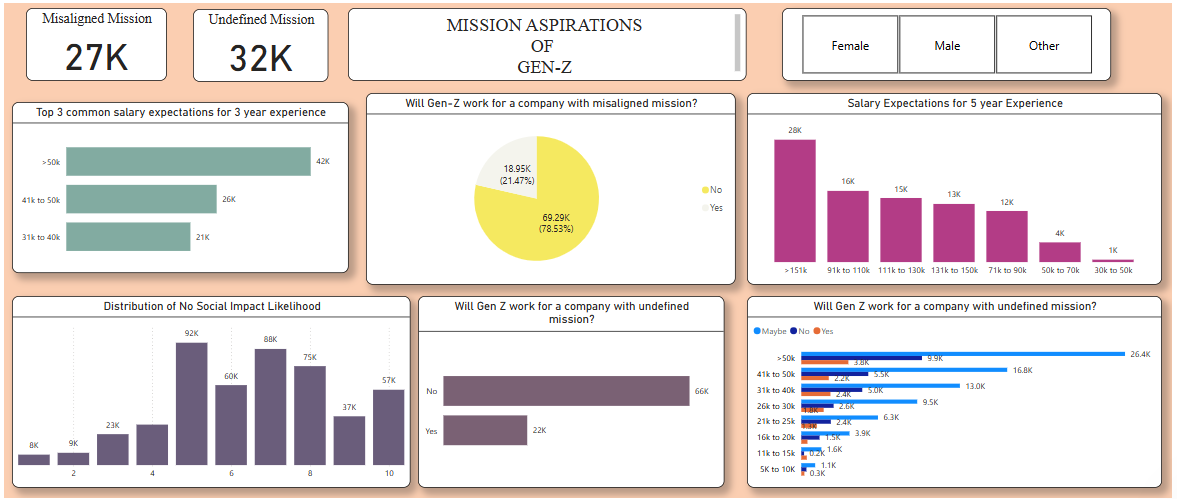

The dashboard page shown, as its layout file describes it:
{"tool":"powerbi","page":{"name":"Page 1","canvas":[1700,720],"ordinal":0},"visuals":[{"type":"shape","box":[11.1,0,1673.1,102.7],"z":0},{"type":"textbox","box":[415.5,19,632,61.6],"z":1000},{"type":"slicer","fields":{"Values":["Form responses 1.Gender"]},"box":[1096.5,20.5,451.9,61.6],"z":2000},{"type":"cardVisual","fields":{"Data":["Sum(Form responses 1.Misaligned Mission)","Sum(Form responses 1.Undefined Mission)"]},"box":[11.3,116.2,467.7,121.9],"z":3000},{"type":"barChart","title":"Top 3 common salary expectations for 3 year experience","fields":{"Category":["Form responses 1.Min Expected Monthly Salary (First 3 Years)"],"Y":["CountNonNull(Form responses 1.Min Expected Monthly Salary (First 3 Years))"]},"box":[11.3,242.4,467.7,248],"z":4000},{"type":"donutChart","title":"Will Gen-Z work for a company with misaligned mission?","fields":{"Y":["CountNonNull(Form responses 1.Likelihood of Working for a Company with a Misaligned Mission and Actions)"],"Category":["Form responses 1.Likelihood of Working for a Company with a Misaligned Mission and Actions"]},"box":[484.7,116.2,544.3,218.3],"z":5000},{"type":"barChart","title":"Salary Expectations for 5 year Experience","fields":{"Category":["Form responses 1.Min Expected Monthly Salary (After 5 Years)"],"Y":["CountNonNull(Form responses 1.Min Expected Monthly Salary (After 5 Years))"]},"box":[1036.1,116.2,647.7,218.3],"z":6000},{"type":"columnChart","title":"Distribution of No Social Impact Likelihood","fields":{"Category":["Form responses 1.Likelihood of Working for a Company with No Social Impact Mission"],"Y":["Sum(Form responses 1.Likelihood of Working for a Company with No Social Impact Mission)"]},"box":[1114,348.7,569.8,371.3],"z":7000},{"type":"columnChart","title":"Will Gen Z work for a company with undefined mission?","fields":{"Category":["Form responses 1.Willingness to Work for a Company with an Undefined Mission"],"Y":["CountNonNull(Form responses 1.Willingness to Work for a Company with an Undefined Mission)"]},"box":[11.3,504.6,467.7,215.4],"z":8000},{"type":"clusteredBarChart","title":"Will Gen Z work for a company with undefined mission?","fields":{"Category":["Form responses 1.Min Expected Monthly Salary (First 3 Years)"],"Y":["CountNonNull(Form responses 1.Min Expected Monthly Salary (First 3 Years))"],"Series":["Form responses 1.Likelihood of Staying with One Employer for 7+ Years"]},"box":[484.7,348.7,620.8,371.3],"z":9000}]}

Visuals, with their boxes in screenshot pixels (x1, y1, x2, y2), scaled from the page's 1700x720 canvas onto the 1177x499 screenshot:
shape: BBox(8, 0, 1166, 71)
textbox: BBox(288, 13, 725, 56)
slicer - Form responses 1.Gender: BBox(759, 14, 1072, 57)
cardVisual - Sum(Form responses 1.Misaligned Mission) x Sum(Form responses 1.Undefined Mission): BBox(8, 81, 332, 165)
"Top 3 common salary expectations for 3 year experience" barChart: BBox(8, 168, 332, 340)
"Will Gen-Z work for a company with misaligned mission?" donutChart: BBox(336, 81, 712, 232)
"Salary Expectations for 5 year Experience" barChart: BBox(717, 81, 1166, 232)
"Distribution of No Social Impact Likelihood" columnChart: BBox(771, 242, 1166, 498)
"Will Gen Z work for a company with undefined mission?" columnChart: BBox(8, 350, 332, 498)
"Will Gen Z work for a company with undefined mission?" clusteredBarChart: BBox(336, 242, 765, 498)
